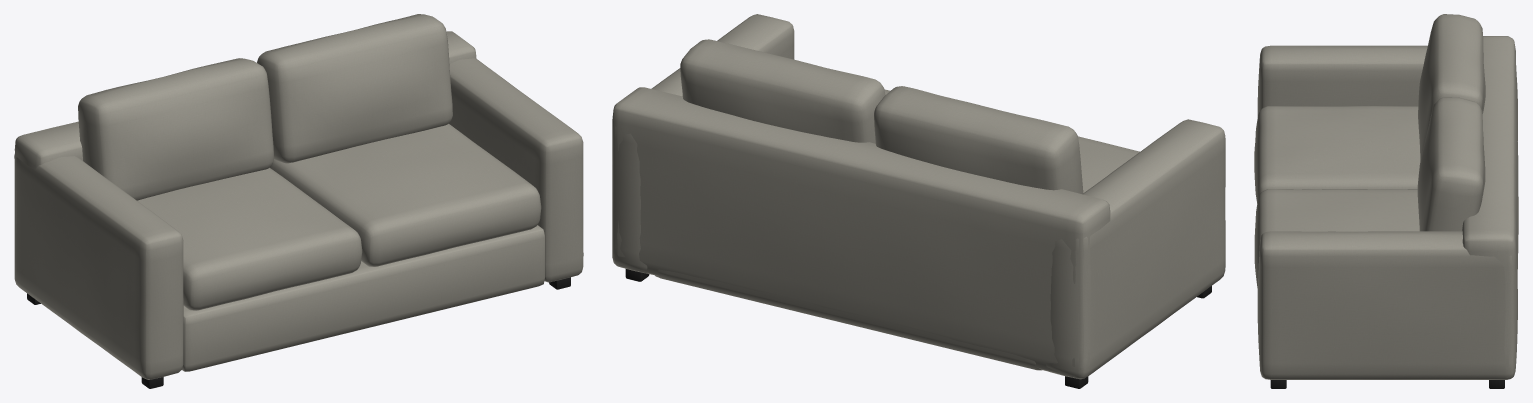
File: sofa_moderno_2p.glb
3 renders of one model, left to right at view 1: azimuth 30°, elevation 25°; view 2: azimuth 150°, elevation 25°; view 3: azimuth 270°, elevation 25°, orthographic. The views are drawn at different scales.
Visible parts, largest first — view 1: sofa_moderno_2p; view 2: sofa_moderno_2p; view 3: sofa_moderno_2p.
Part boxes in pixels (left/top/right/bottom): sofa_moderno_2p: left=14, top=14, right=583, bottom=388; sofa_moderno_2p: left=612, top=14, right=1225, bottom=388; sofa_moderno_2p: left=1254, top=14, right=1518, bottom=388.
Size of the model in its own units: 1.81 by 0.826 by 0.9809.
Materials: 2 (1 with a texture image).
